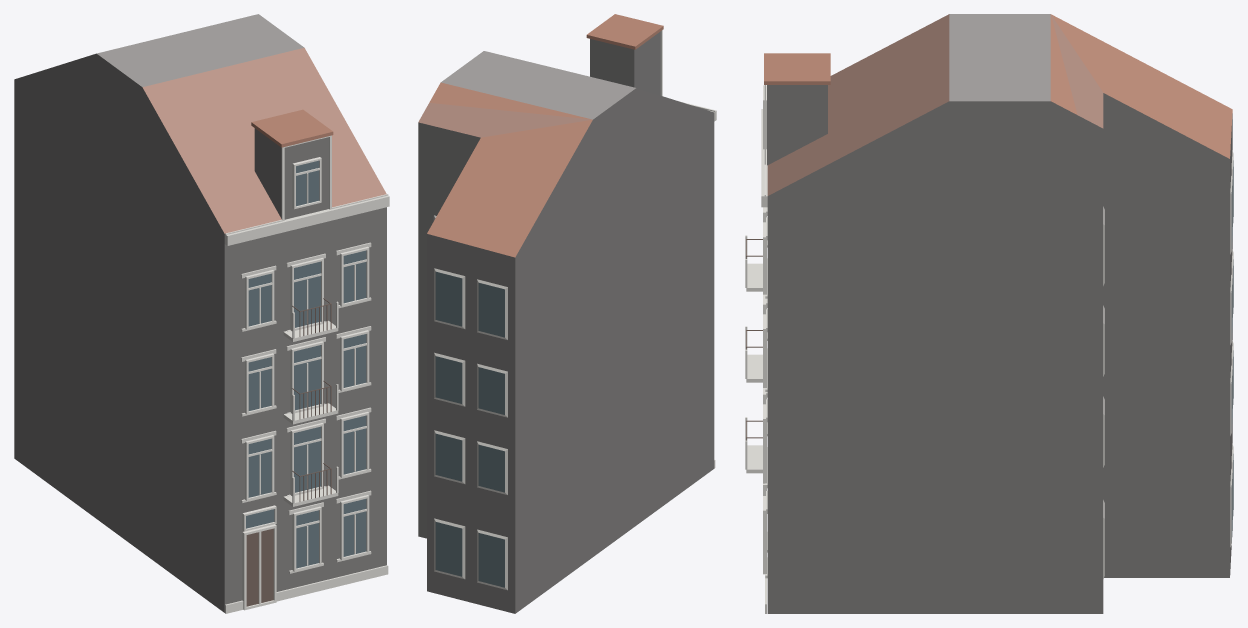
The model's file is chunk-face-retief-45-75-r2.glb.
3 views of the same model, side by side, from view 1: azimuth 30°, elevation 25°; view 2: azimuth 150°, elevation 25°; view 3: azimuth 270°, elevation 25° (orthographic). The views are drawn at different scales.
Parts seen in each view (by area): view 1: face-retief-45-75-r2; view 2: face-retief-45-75-r2; view 3: face-retief-45-75-r2.
Boxes of the visible parts, x1,y1,x2,y2 form: face-retief-45-75-r2: (14,14,389,613); face-retief-45-75-r2: (418,14,716,613); face-retief-45-75-r2: (745,14,1233,613).
Bounding box in the file's own units: 5.96 × 16.32 × 14.09.
